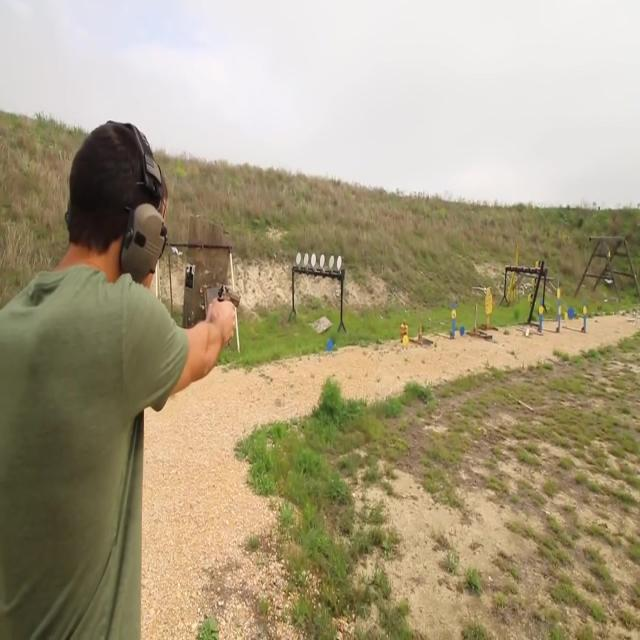Weapon: (210, 266, 257, 352)
